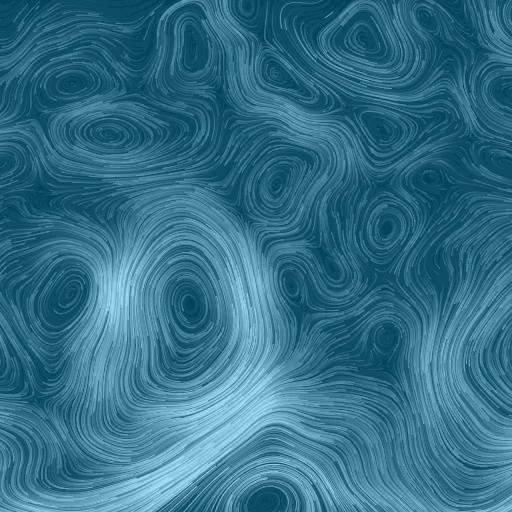eddy: (133, 235, 245, 394), (320, 5, 404, 75), (34, 258, 99, 333), (69, 110, 150, 159), (169, 13, 222, 84), (361, 197, 416, 258), (357, 106, 411, 155), (254, 156, 302, 210), (39, 64, 105, 101), (260, 53, 298, 93), (413, 162, 454, 197), (369, 319, 405, 358), (277, 262, 308, 306), (319, 250, 352, 288), (411, 3, 444, 39)
